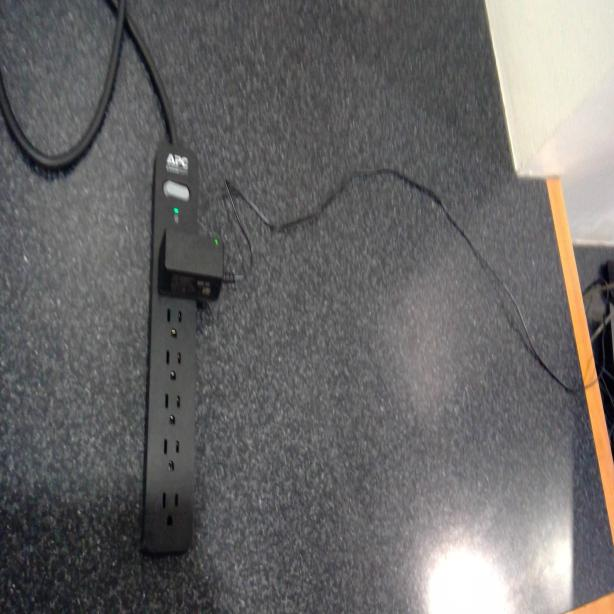typeb: (160, 484, 182, 534), (160, 389, 183, 429), (160, 435, 183, 474), (161, 304, 185, 340), (162, 348, 184, 383)
